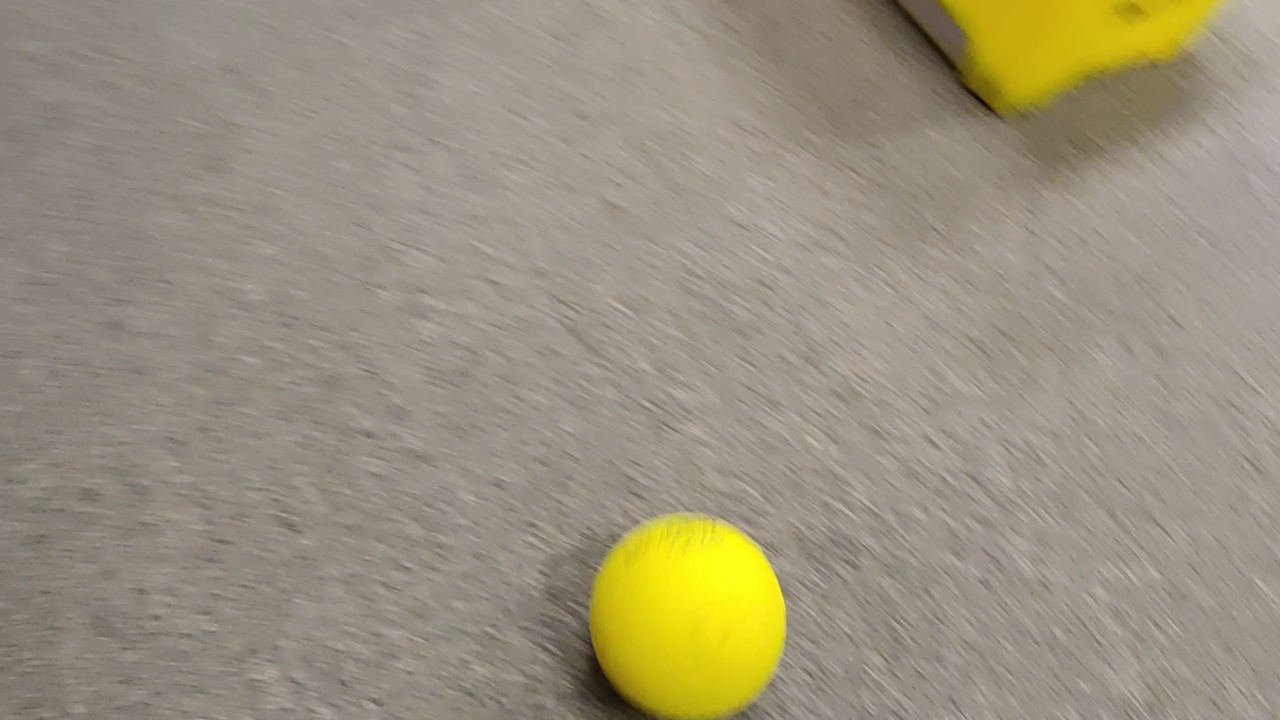Ball: (590, 513, 785, 713)
